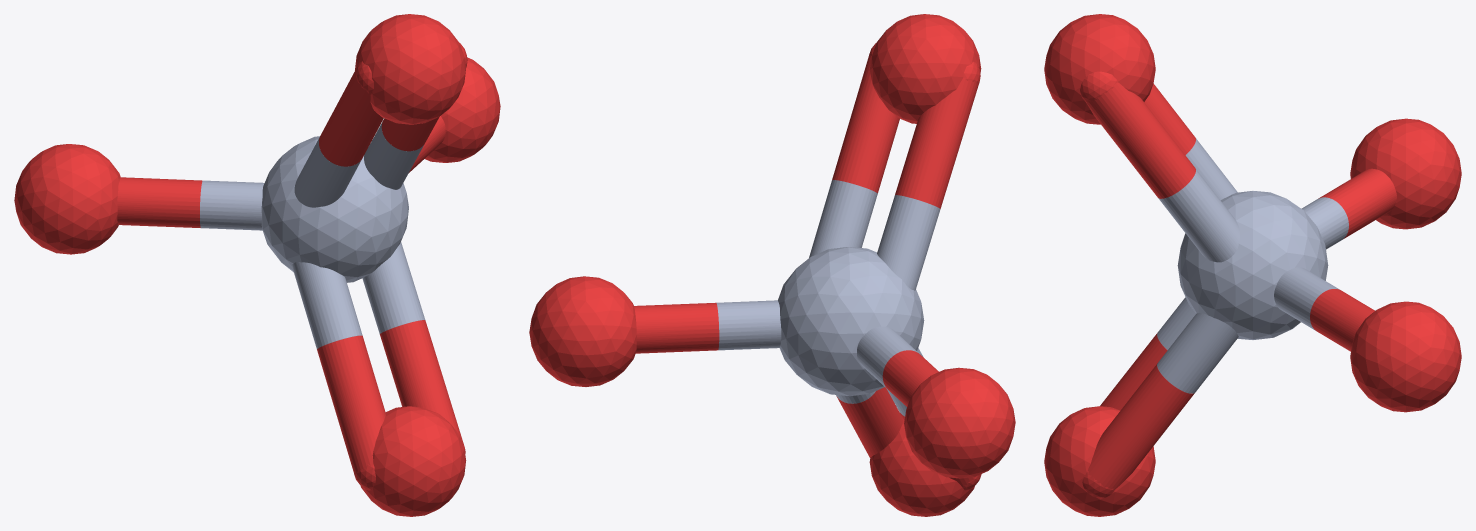
Rendered from chromate.fbx.
The picture shows the model from 3 angles, left to right: view 1: azimuth 30°, elevation 25°; view 2: azimuth 150°, elevation 25°; view 3: azimuth 270°, elevation 25°; orthographic projection.
Parts seen in each view (by area): view 1: Shape_IndexedFaceSet, Shape_IndexedFaceSet.004, Shape_IndexedFaceSet.002, Shape_IndexedFaceSet.001, Shape_IndexedFaceSet.026, Shape_IndexedFaceSet.022, Shape_IndexedFaceSet.003, Shape_IndexedFaceSet.007, Shape_IndexedFaceSet.024, Shape_IndexedFaceSet.014, Shape_IndexedFaceSet.020, Shape_IndexedFaceSet.005 (+4 smaller); view 2: Shape_IndexedFaceSet, Shape_IndexedFaceSet.004, Shape_IndexedFaceSet.003, Shape_IndexedFaceSet.002, Shape_IndexedFaceSet.014, Shape_IndexedFaceSet.001, Shape_IndexedFaceSet.018, Shape_IndexedFaceSet.010, Shape_IndexedFaceSet.012, Shape_IndexedFaceSet.016, Shape_IndexedFaceSet.009, Shape_IndexedFaceSet.022 (+2 smaller); view 3: Shape_IndexedFaceSet, Shape_IndexedFaceSet.003, Shape_IndexedFaceSet.004, Shape_IndexedFaceSet.002, Shape_IndexedFaceSet.001, Shape_IndexedFaceSet.018, Shape_IndexedFaceSet.022, Shape_IndexedFaceSet.016, Shape_IndexedFaceSet.020, Shape_IndexedFaceSet.007, Shape_IndexedFaceSet.010, Shape_IndexedFaceSet.009 (+6 smaller).
Boxes of the visible parts, x1,y1,x2,y2 form: Shape_IndexedFaceSet: [261, 136, 408, 282]; Shape_IndexedFaceSet.004: [14, 144, 120, 254]; Shape_IndexedFaceSet.002: [355, 14, 465, 124]; Shape_IndexedFaceSet.001: [360, 406, 466, 516]; Shape_IndexedFaceSet.026: [317, 335, 385, 473]; Shape_IndexedFaceSet.022: [380, 320, 463, 443]; Shape_IndexedFaceSet.003: [425, 57, 500, 162]; Shape_IndexedFaceSet.007: [117, 177, 202, 227]; Shape_IndexedFaceSet.024: [292, 262, 362, 348]; Shape_IndexedFaceSet.014: [319, 68, 383, 166]; Shape_IndexedFaceSet.020: [362, 242, 425, 333]; Shape_IndexedFaceSet.005: [200, 180, 264, 230]; Shape_IndexedFaceSet: [778, 247, 924, 396]; Shape_IndexedFaceSet.004: [904, 367, 1015, 478]; Shape_IndexedFaceSet.003: [529, 276, 636, 386]; Shape_IndexedFaceSet.002: [869, 14, 981, 123]; Shape_IndexedFaceSet.014: [895, 77, 978, 208]; Shape_IndexedFaceSet.001: [869, 412, 974, 516]; Shape_IndexedFaceSet.018: [832, 55, 899, 193]; Shape_IndexedFaceSet.010: [634, 302, 719, 353]; Shape_IndexedFaceSet.012: [877, 195, 940, 290]; Shape_IndexedFaceSet.016: [809, 180, 877, 257]; Shape_IndexedFaceSet.009: [716, 300, 781, 350]; Shape_IndexedFaceSet.022: [836, 387, 902, 457]; Shape_IndexedFaceSet: [1177, 191, 1328, 339]; Shape_IndexedFaceSet.003: [1350, 301, 1461, 412]; Shape_IndexedFaceSet.004: [1350, 118, 1461, 229]; Shape_IndexedFaceSet.002: [1044, 14, 1155, 124]; Shape_IndexedFaceSet.001: [1044, 406, 1155, 516]; Shape_IndexedFaceSet.018: [1086, 82, 1195, 198]; Shape_IndexedFaceSet.022: [1087, 363, 1194, 490]; Shape_IndexedFaceSet.016: [1158, 169, 1239, 262]; Shape_IndexedFaceSet.020: [1157, 313, 1238, 393]; Shape_IndexedFaceSet.007: [1318, 168, 1396, 238]; Shape_IndexedFaceSet.010: [1310, 289, 1374, 351]; Shape_IndexedFaceSet.009: [1274, 267, 1339, 330].
Size of the model in its own units: 3414 by 3414 by 2619.
